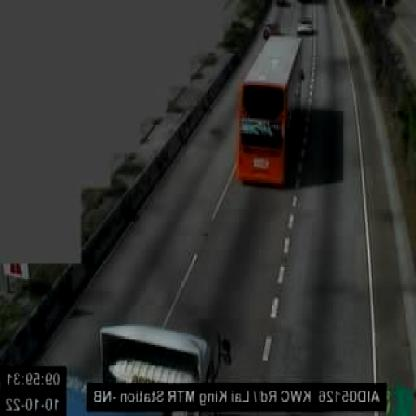Bus: (237, 33, 306, 188)
Car: (297, 15, 313, 34)
